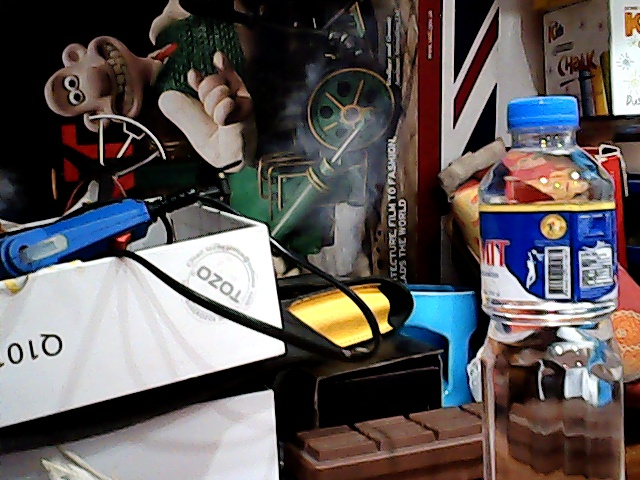Summit Water: (472, 89, 633, 480)
